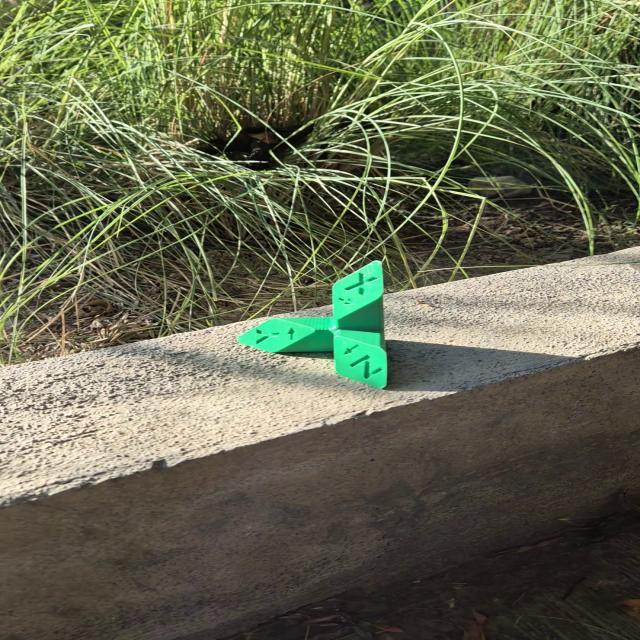eje: (234, 259, 390, 390)
